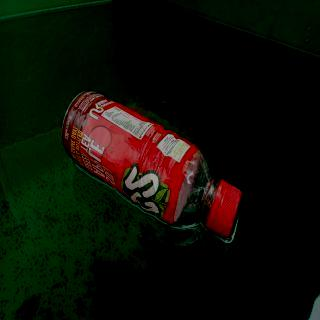bottle: (61, 90, 242, 238)
